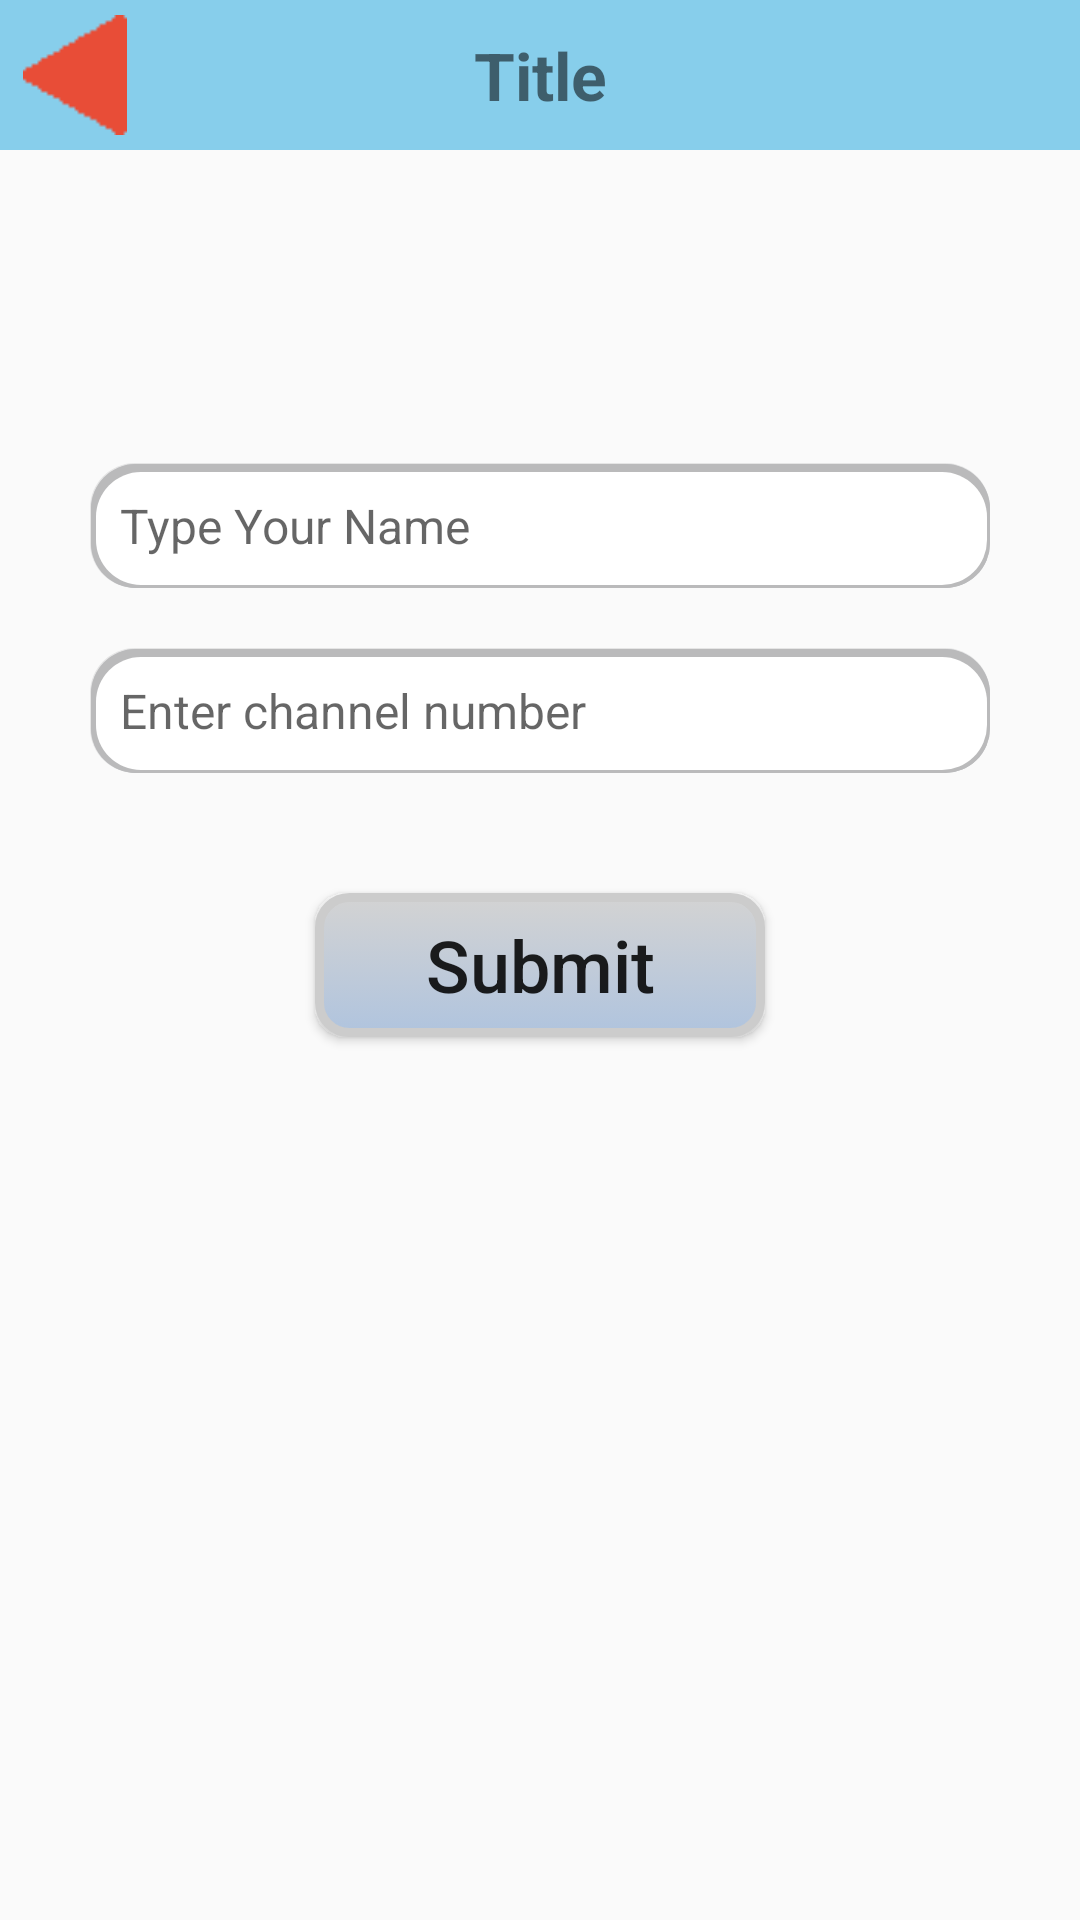

Where icons sit on this 1080x1920 app screen, as (x1, y1, x2, y2):
back: (23, 15, 127, 135)
